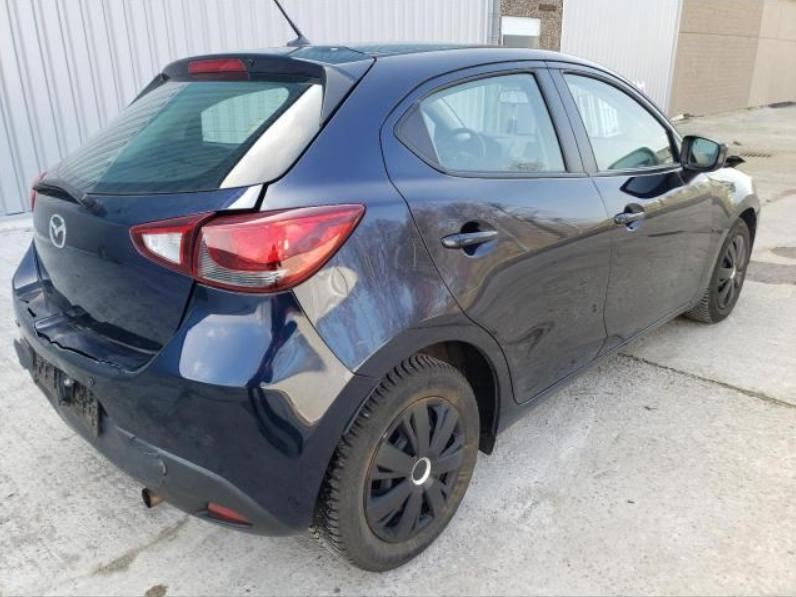Back-bumper: (12, 240, 380, 536)
Back-door: (381, 60, 612, 404)
Back-wheel: (310, 353, 479, 574)
Back-windshield: (37, 71, 323, 194)
Fender: (698, 164, 759, 296)
Front-door: (546, 59, 715, 356)
Front-wheel: (681, 218, 752, 324)
License-plate: (33, 350, 98, 435)
Mirror: (681, 135, 727, 171)
Quarter-panel: (258, 173, 518, 426)
Rocker-panel: (496, 298, 703, 433)
Roof: (338, 43, 543, 57)
Tail-light: (130, 204, 369, 294)
Trunk: (31, 44, 374, 346)
